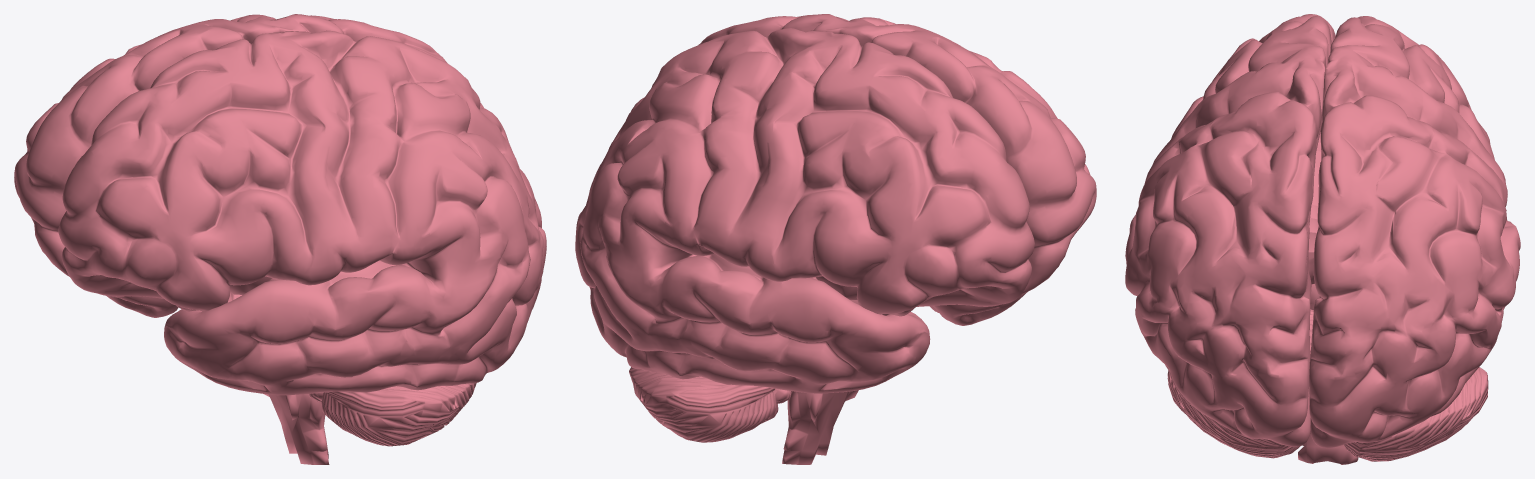
Rendered from brain.gltf.
3 renders of one model, left to right at view 1: azimuth 30°, elevation 25°; view 2: azimuth 150°, elevation 25°; view 3: azimuth 270°, elevation 25°, orthographic. The views are drawn at different scales.
Visible parts, largest first — view 1: Brain_Part_04, Brain_Part_06, Brain_Part_02, Brain_Part_05; view 2: Brain_Part_06, Brain_Part_04, Brain_Part_02, Brain_Part_05; view 3: Brain_Part_06, Brain_Part_04, Brain_Part_02, Brain_Part_05.
Part boxes in pixels (box(x1,y1,x2,y2)): Brain_Part_04: box(58, 30, 546, 395); Brain_Part_06: box(14, 14, 484, 317); Brain_Part_02: box(309, 383, 476, 446); Brain_Part_05: box(229, 276, 329, 464); Brain_Part_06: box(575, 28, 1034, 393); Brain_Part_04: box(698, 14, 1096, 325); Brain_Part_02: box(629, 367, 791, 442); Brain_Part_05: box(782, 276, 858, 464); Brain_Part_06: box(1309, 16, 1520, 447); Brain_Part_04: box(1125, 14, 1335, 446); Brain_Part_02: box(1167, 309, 1488, 461); Brain_Part_05: box(1298, 283, 1358, 464).
Bounding box in the file's own units: 4.59 × 4.14 × 3.8.
